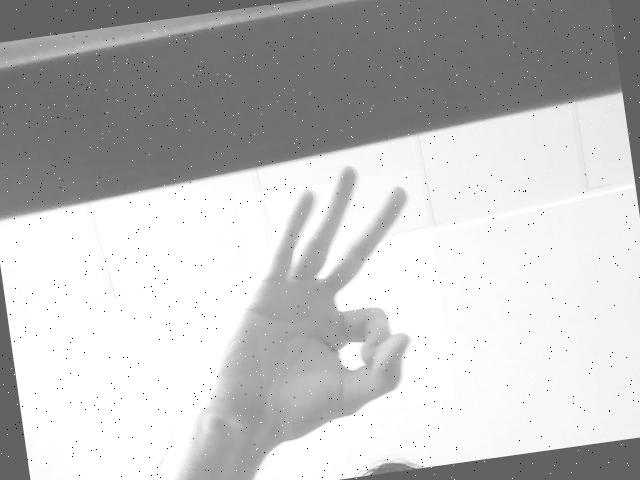OK: (237, 170, 456, 424)
